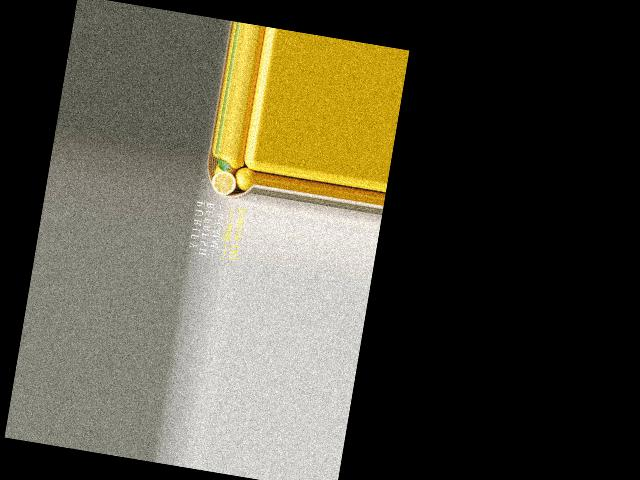lemon: (232, 166, 256, 190)
